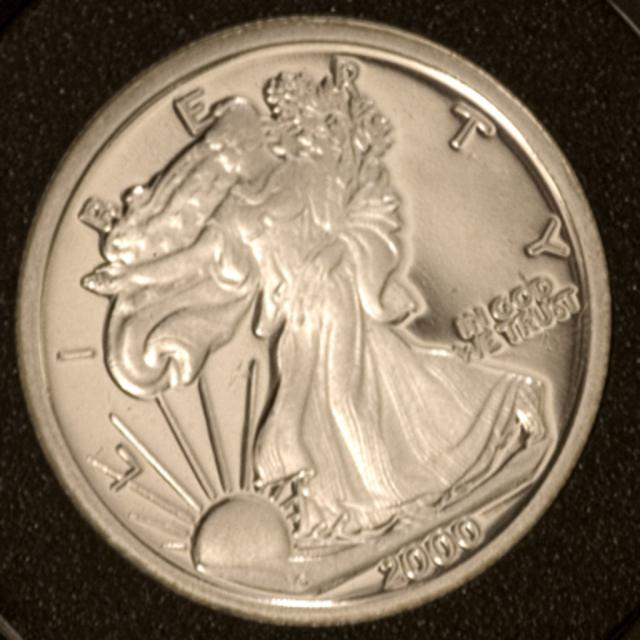Coin: (16, 13, 613, 625)
